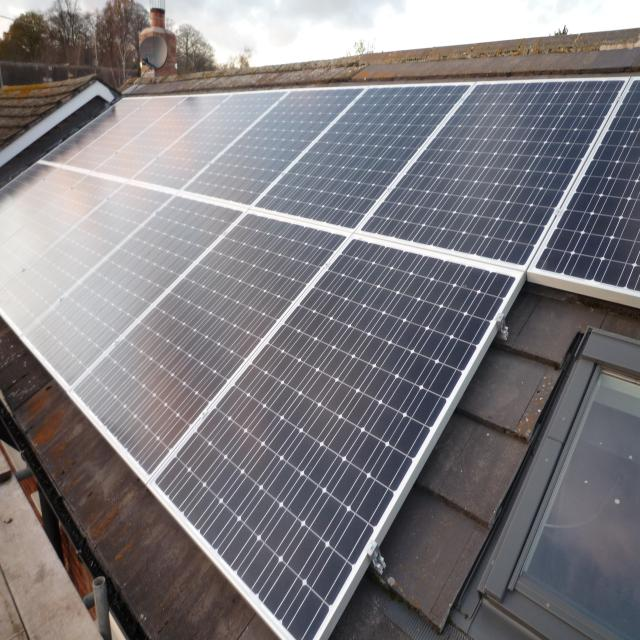clean-solar-panel: (0, 75, 640, 638)
